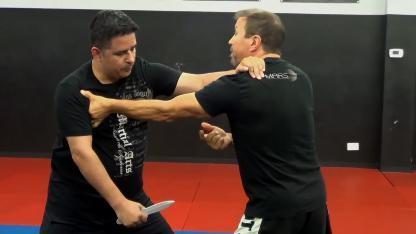knife: (114, 198, 176, 226)
